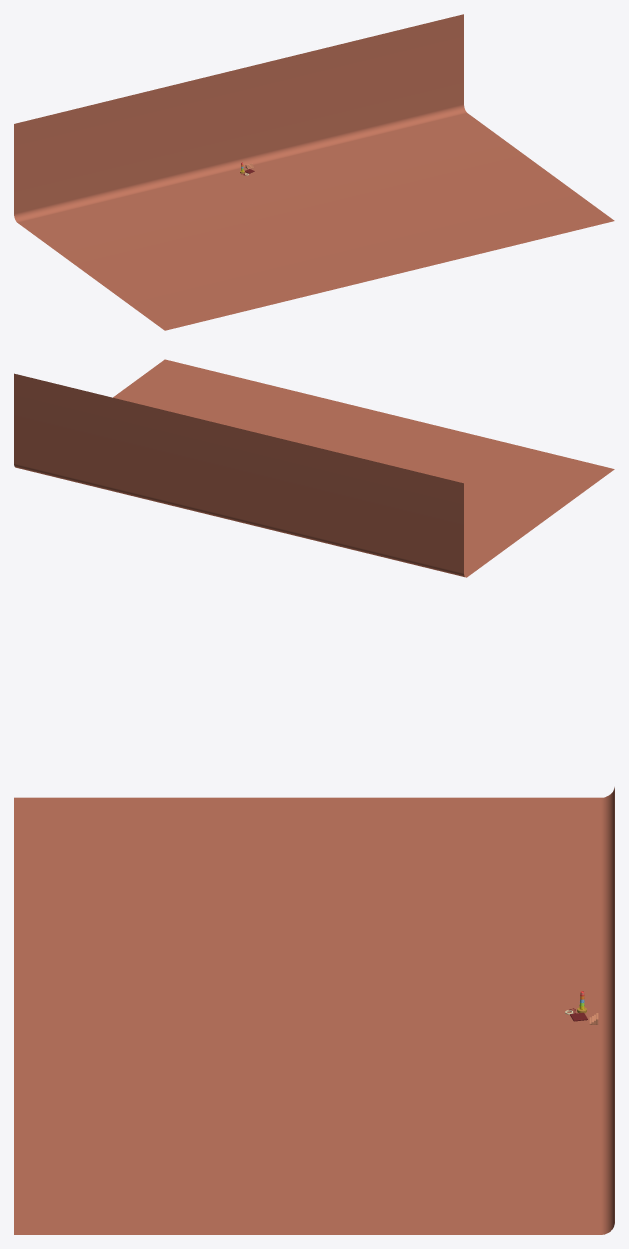
The model's file is counterweight.glb.
The picture shows the model from 3 angles, top to bottom: view 1: azimuth 30°, elevation 25°; view 2: azimuth 150°, elevation 25°; view 3: azimuth 270°, elevation 25°; orthographic projection. The views are drawn at different scales.
Parts seen in each view (by area): view 1: Cyclorama.001; view 2: Cyclorama.001; view 3: Cyclorama.001.
Boxes of the visible parts, left/top/right/bottom form: Cyclorama.001: left=14, top=14, right=614, bottom=330; Cyclorama.001: left=14, top=359, right=614, bottom=577; Cyclorama.001: left=14, top=787, right=614, bottom=1234.
Bounding box in the file's own units: 220 × 45 × 128.
Materials: 6 (1 with a texture image).
